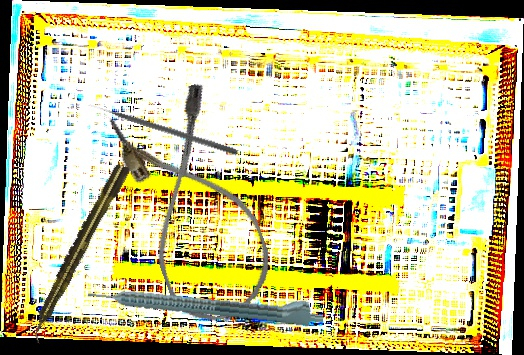Cannula: (105, 80, 285, 333)
Handpiece: (23, 160, 133, 344), (87, 275, 325, 329)
Pusher: (87, 99, 240, 157)
